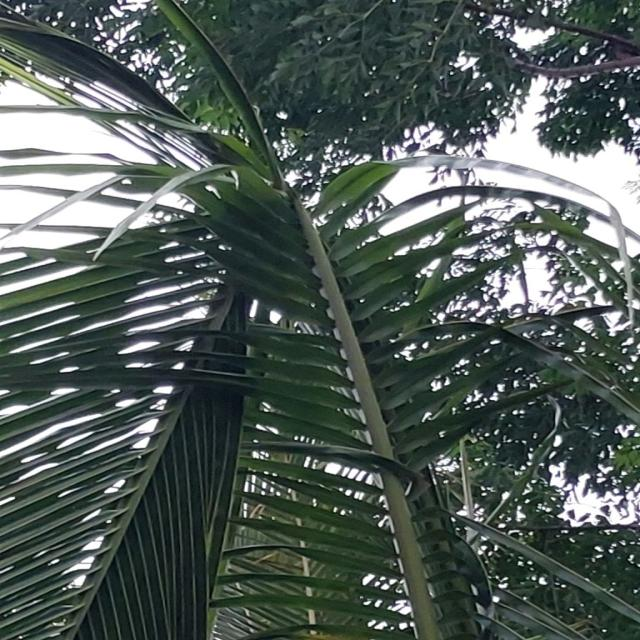leaf rot: (370, 156, 640, 634), (10, 25, 328, 299)
